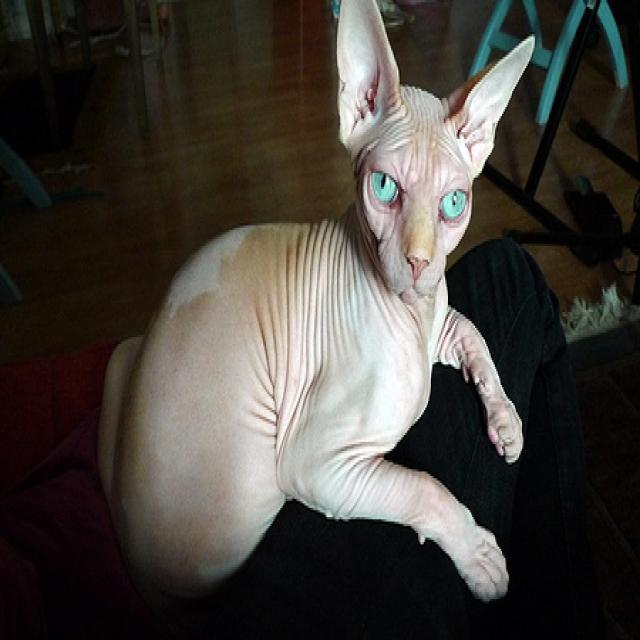Sphynx: (98, 0, 537, 610)
